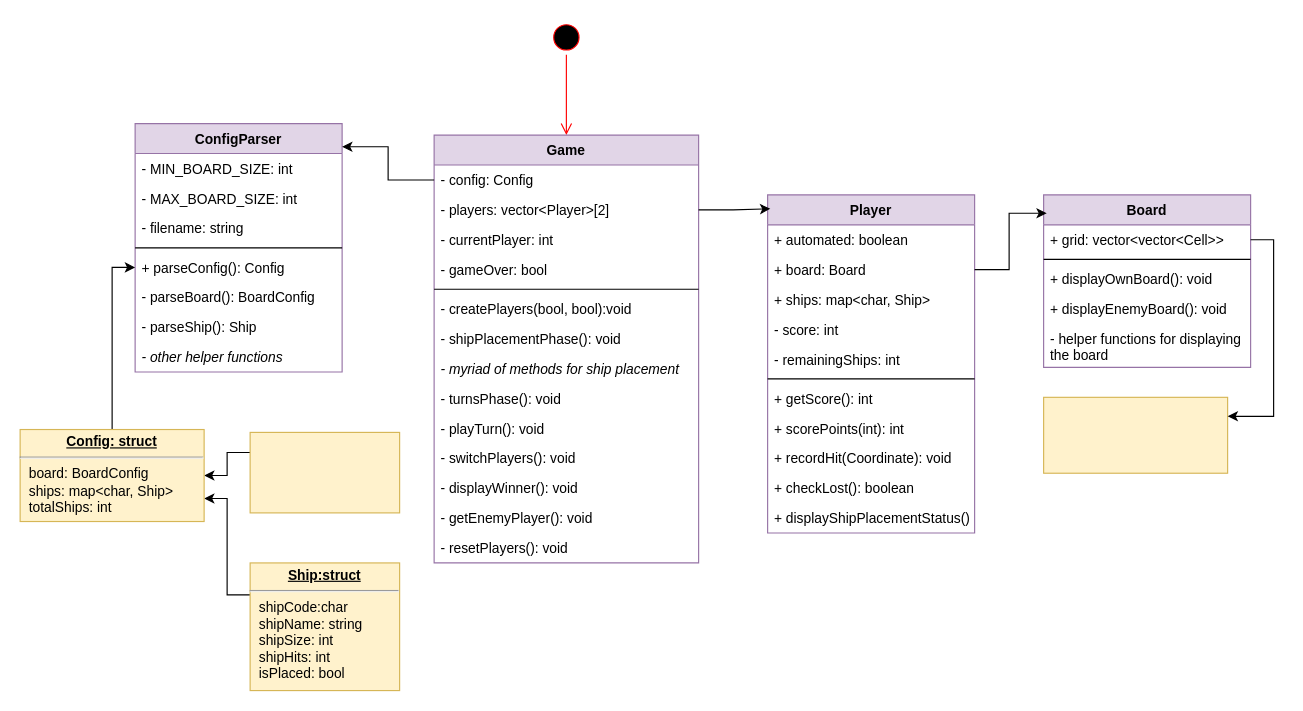
Some shapes in this 1303 by 711 pixel diagram are drawn without their labels. The shapes that lost their labels are listed below. From the top down, each one's centre as x and y in pixels, then its label:
At point 1135,434: "Cell:struct cellType: char hit: bool".
At point 324,472: "BoardConfig:struct height: int width: int".
